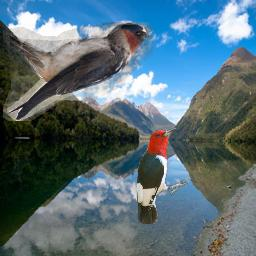Swallow: (3, 22, 155, 121)
Woodpecker: (136, 128, 188, 224)
